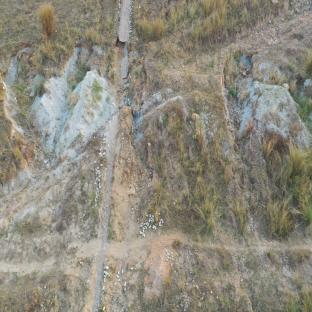slope_drain: (91, 40, 128, 310)
